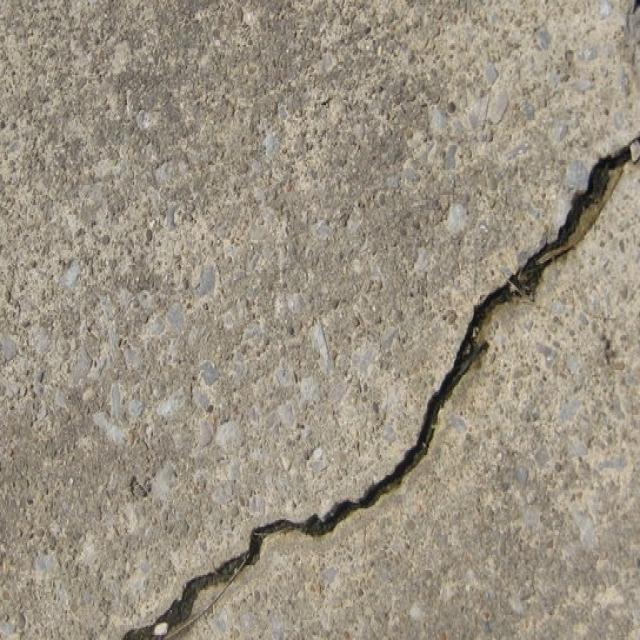Diagonal: (125, 137, 640, 637)
